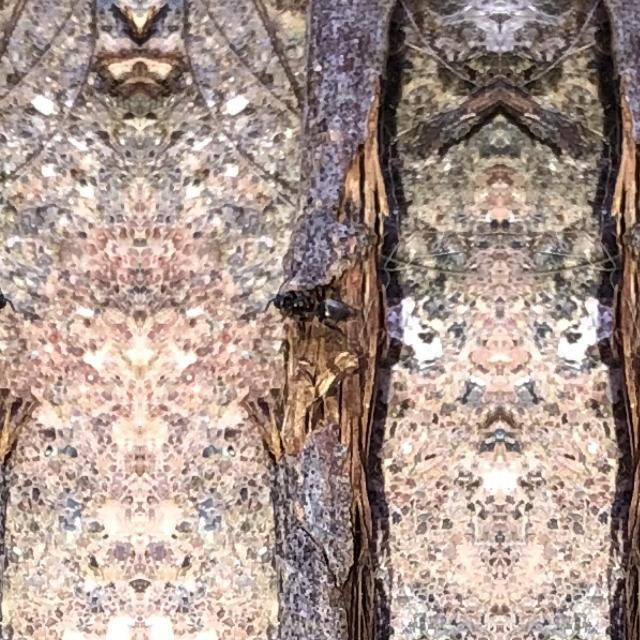Tapinoma: (262, 258, 356, 350)
